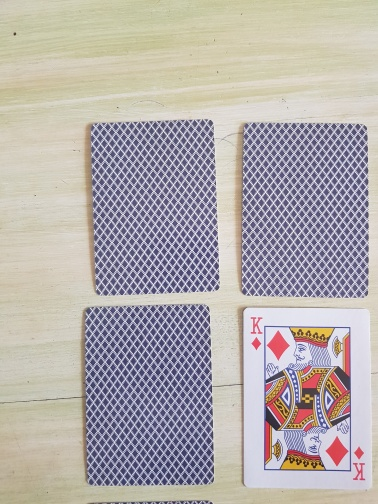king: (241, 308, 372, 491)
